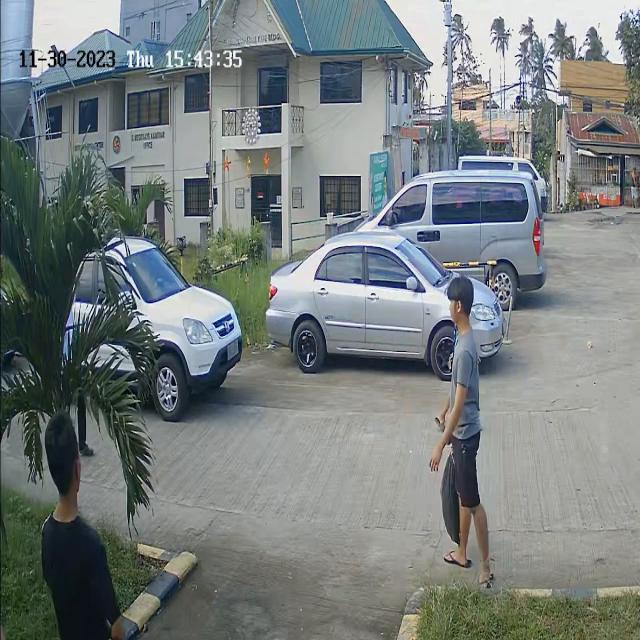garbage: (435, 458, 467, 542)
person: (33, 403, 116, 640), (446, 279, 494, 592)
